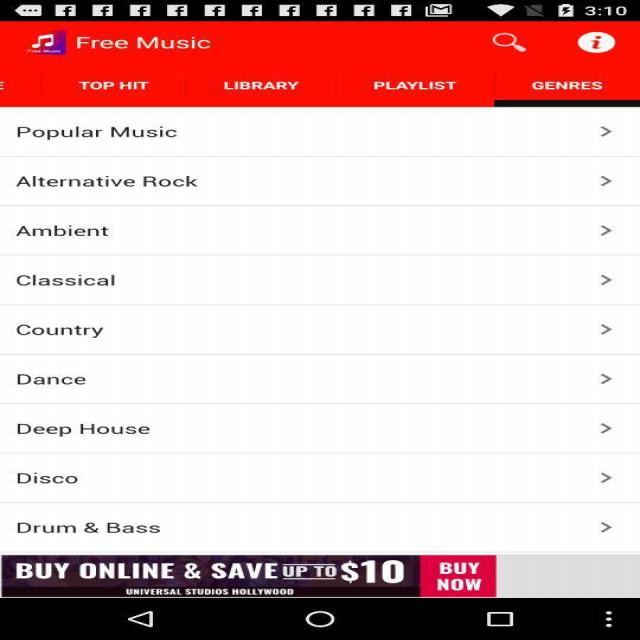button: (360, 75, 487, 103), (58, 76, 184, 102), (220, 73, 322, 101), (520, 72, 619, 99), (574, 31, 629, 60), (487, 31, 543, 58), (586, 169, 630, 197), (586, 418, 630, 445), (588, 516, 629, 544), (585, 268, 626, 294), (586, 123, 630, 146), (591, 466, 627, 491), (590, 320, 622, 346), (591, 217, 620, 245), (594, 366, 626, 391)
icon: (13, 29, 79, 59)
text: (6, 172, 231, 199), (6, 121, 209, 150), (7, 265, 158, 302), (7, 518, 199, 545), (6, 414, 179, 441), (70, 33, 231, 59), (10, 219, 126, 249), (14, 320, 119, 346), (11, 369, 108, 395), (9, 468, 95, 493)
